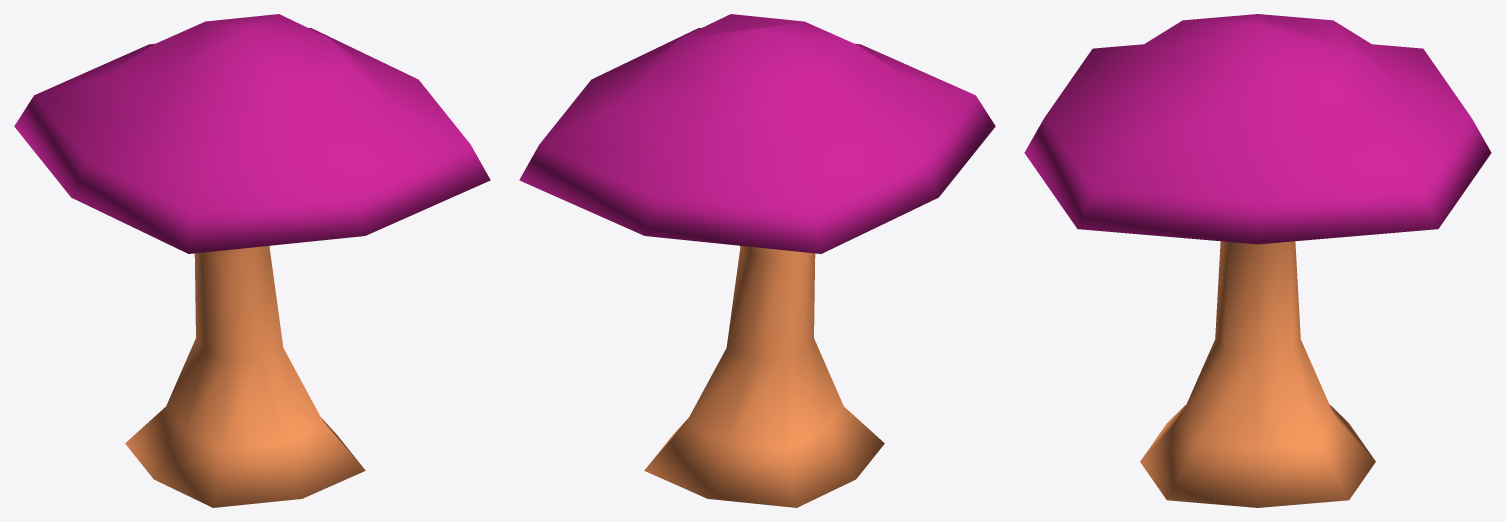
The model's file is fungus pinkpink.obj.
3 renders of one model, left to right at view 1: azimuth 30°, elevation 25°; view 2: azimuth 150°, elevation 25°; view 3: azimuth 270°, elevation 25°, orthographic. The views are drawn at different scales.
Visible parts, largest first — view 1: fungo.004; view 2: fungo.004; view 3: fungo.004.
Boxes of the visible parts, <box> form: fungo.004: <box>14,14,490,507</box>; fungo.004: <box>519,14,995,507</box>; fungo.004: <box>1024,14,1491,507</box>.
Bounding box in the file's own units: 1.23 × 1.39 × 1.33.
